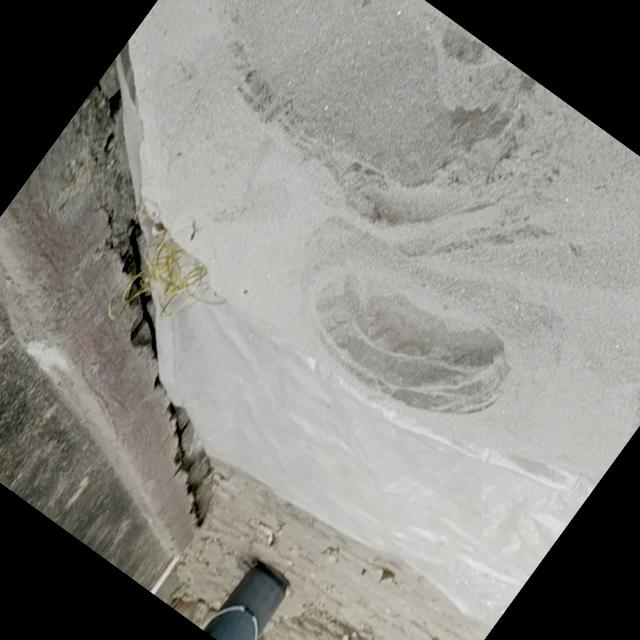C20: (223, 0, 523, 191), (317, 267, 506, 412)
